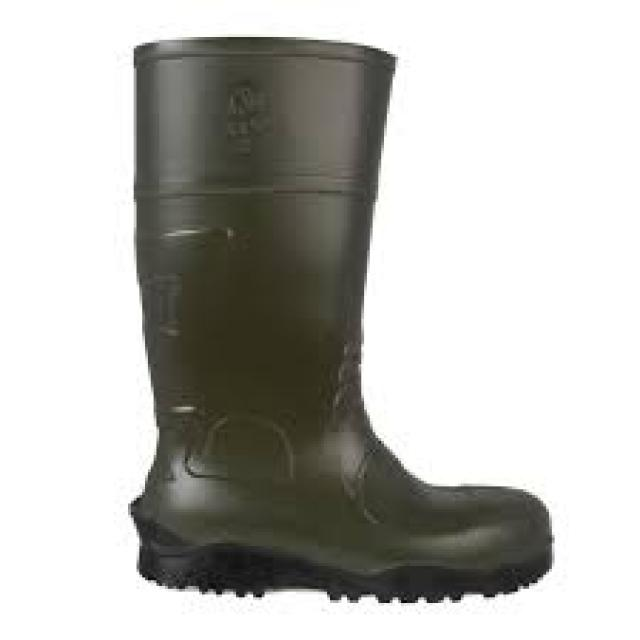shoes: (131, 38, 552, 599)
